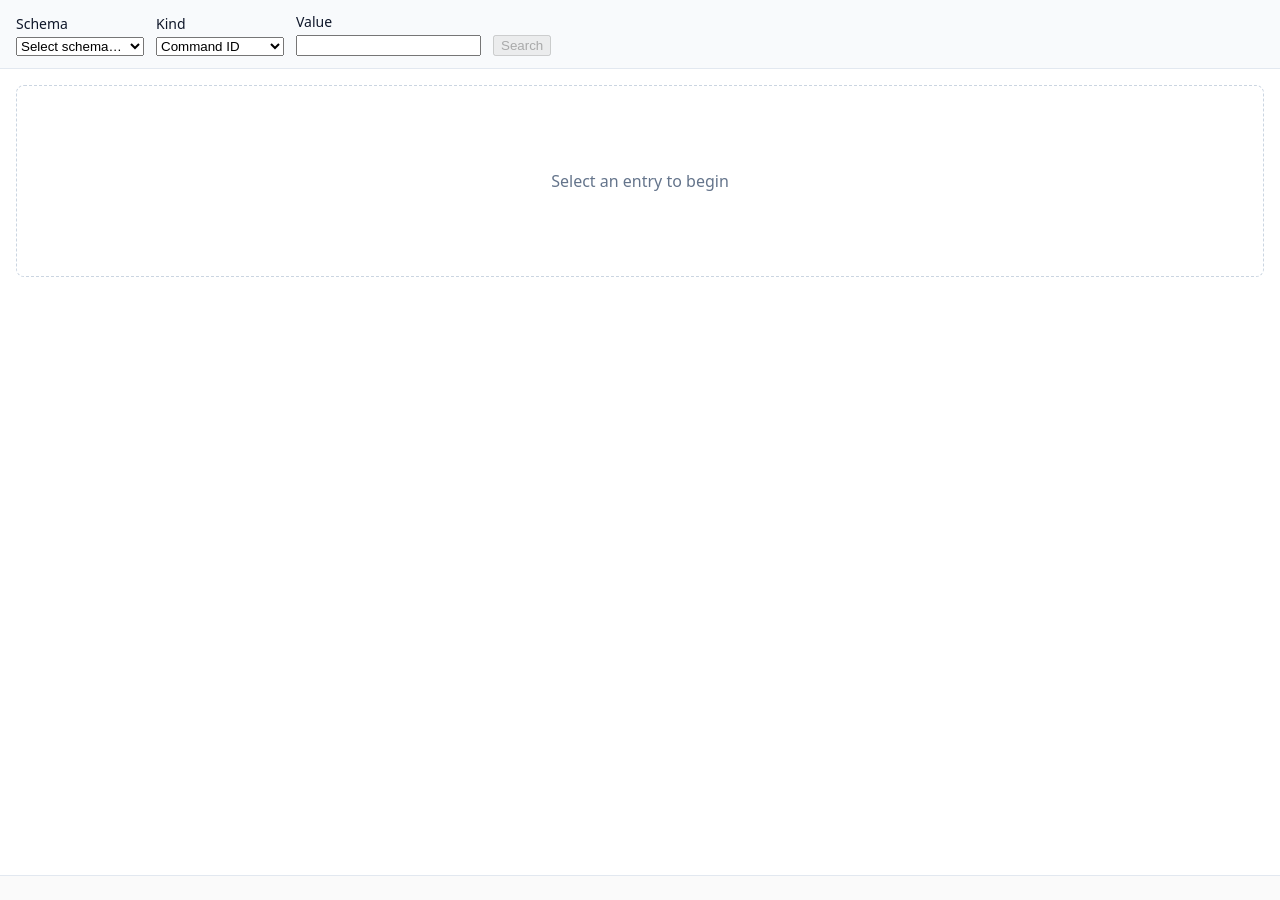
Test: App integration › multiple shows candidates with title and subtitle
Select "S" in the dropdown with test id "schema-select" at (80, 46), box [16,37,144,56]
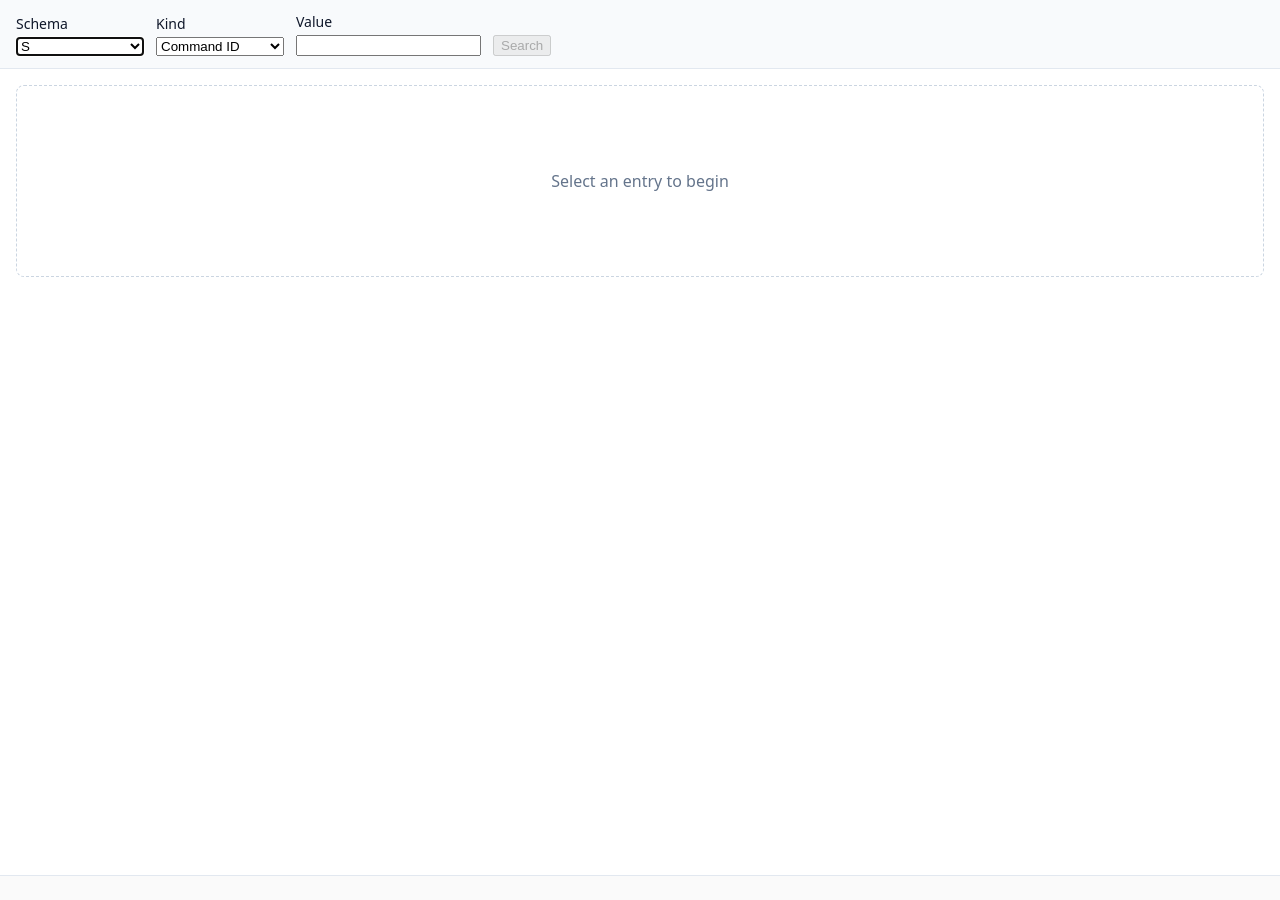
Type "F1" into the field with test id "search-value".
click(388, 46); type("F1")  # box [296,35,481,56]
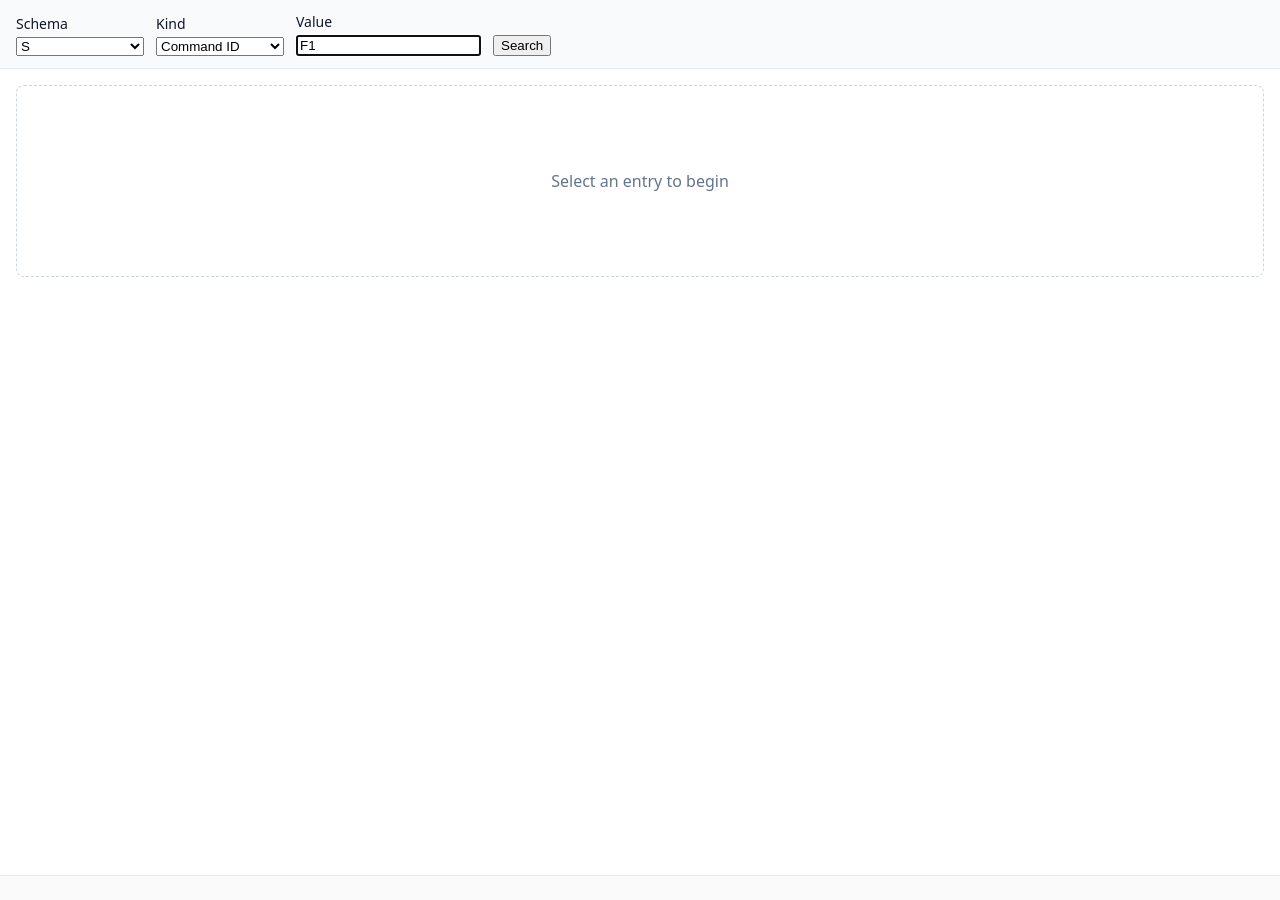
Click the button "Search".
click(522, 46)  # box [493,35,551,56]
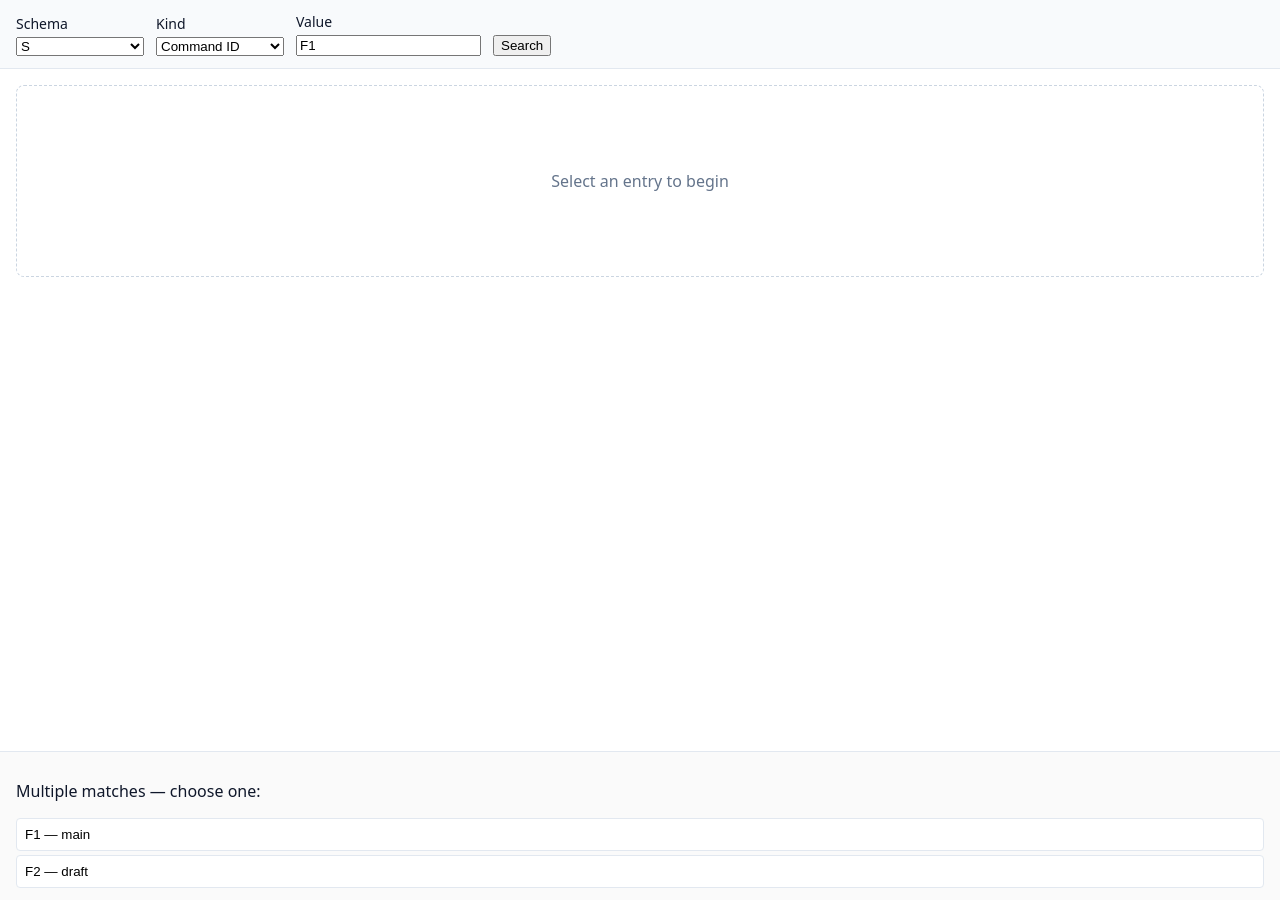
Expected: the number of elements with test id "candidate-title" is 2, [25,827,41,842]; [25,864,41,879]
Expected: the number of elements with test id "candidate-subtitle" is 2, [41,827,90,842]; [41,864,88,879]
